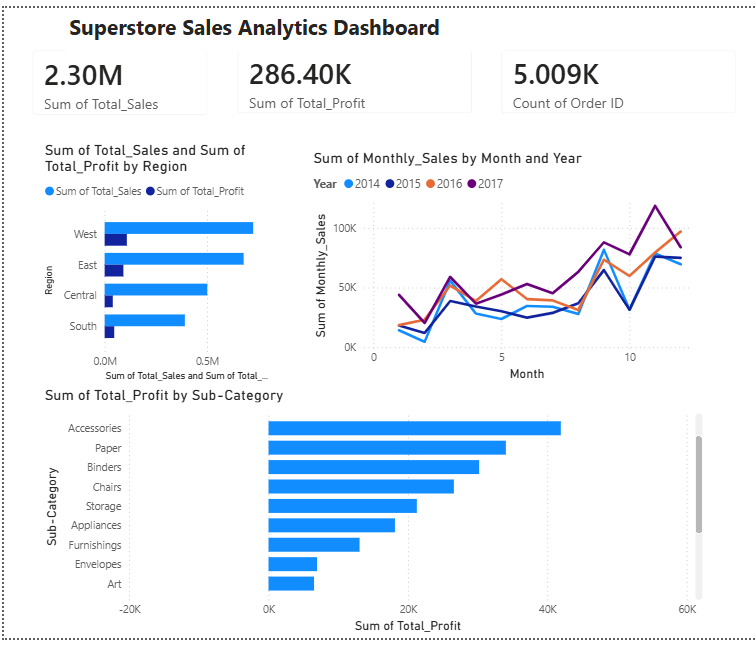

What the dashboard file says about the page in this screenshot:
{"tool":"powerbi","page":{"name":"Page 1","canvas":[1280,720],"ordinal":0},"visuals":[{"type":"clusteredBarChart","fields":{"Category":["Regional Summary.Region"],"Y":["Sum(Regional Summary.Total_Sales)","Sum(Regional Summary.Total_Profit)"]},"box":[42,152,280,280],"z":0},{"type":"lineChart","fields":{"Y":["Sum(Monthly Trend.Monthly_Sales)"],"Category":["Monthly Trend.Month"],"Series":["Monthly Trend.Year"]},"box":[348,162,440,270],"z":1000},{"type":"clusteredBarChart","fields":{"Category":["SubCategory Profit.Sub-Category"],"Y":["Sum(SubCategory Profit.Total_Profit)"]},"box":[42,432,762,288],"z":1001},{"type":"cardVisual","fields":{"Data":["Sum(Regional Summary.Total_Sales)"]},"box":[16,32,234,108],"z":1002},{"type":"cardVisual","fields":{"Data":["Sum(Regional Summary.Total_Profit)"]},"box":[250,32,302,106],"z":1003},{"type":"cardVisual","fields":{"Data":["Count(Full Data.Order ID)"]},"box":[552,32,302,106],"z":1004},{"type":"textbox","box":[70,0,504,50],"z":1005}]}

Visuals, with their boxes on the page's 1280x720 design canvas (x1, y1, x2, y2). These are canvas units, not pixel positions in the 756x647 screenshot, which may show the page scaled, cropped or inside an application window:
clusteredBarChart - Regional Summary.Region x Sum(Regional Summary.Total_Sales): 42:152:322:432
lineChart - Sum(Monthly Trend.Monthly_Sales) x Monthly Trend.Month: 348:162:788:432
clusteredBarChart - SubCategory Profit.Sub-Category x Sum(SubCategory Profit.Total_Profit): 42:432:804:720
cardVisual - Sum(Regional Summary.Total_Sales): 16:32:250:140
cardVisual - Sum(Regional Summary.Total_Profit): 250:32:552:138
cardVisual - Count(Full Data.Order ID): 552:32:854:138
textbox: 70:0:574:50
